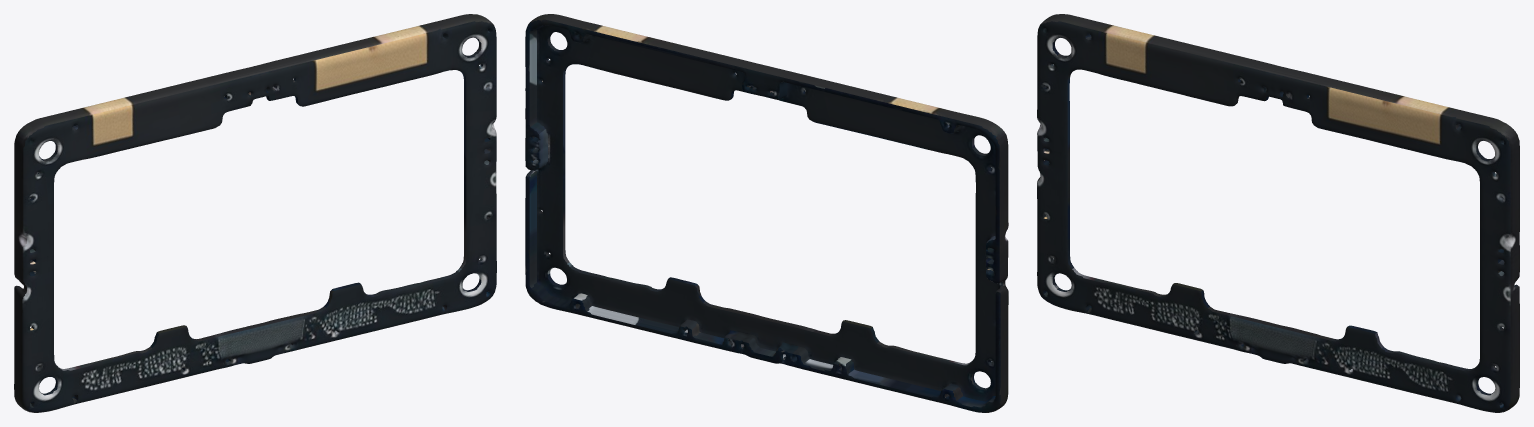
File: antennas.glb
The picture shows the model from 3 angles, left to right: view 1: azimuth 30°, elevation 25°; view 2: azimuth 150°, elevation 25°; view 3: azimuth 330°, elevation 25°; orthographic projection.
Visible parts, largest first — view 1: tmp2z61k33m.ply; view 2: tmp2z61k33m.ply; view 3: tmp2z61k33m.ply.
Part boxes in pixels (<box>): tmp2z61k33m.ply: <box>14,14,496,412</box>; tmp2z61k33m.ply: <box>525,14,1008,412</box>; tmp2z61k33m.ply: <box>1037,14,1519,412</box>.
Size of the model in its own units: 0.9879 by 0.5759 by 0.0386.
Materials: 1 (1 with a texture image).
